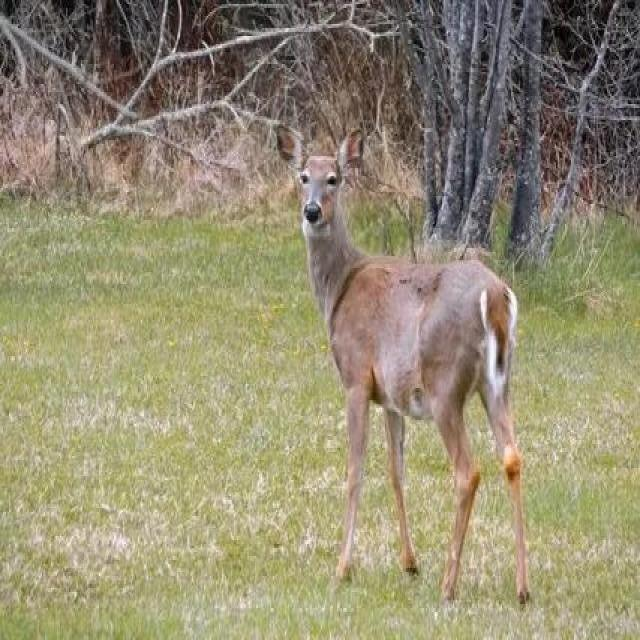deer: (232, 108, 561, 576)
